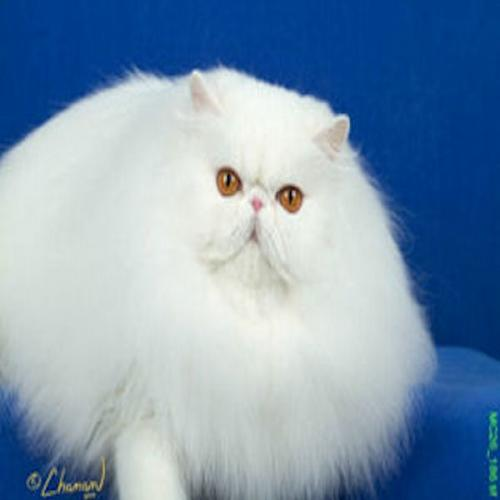persian: (169, 59, 357, 318)
